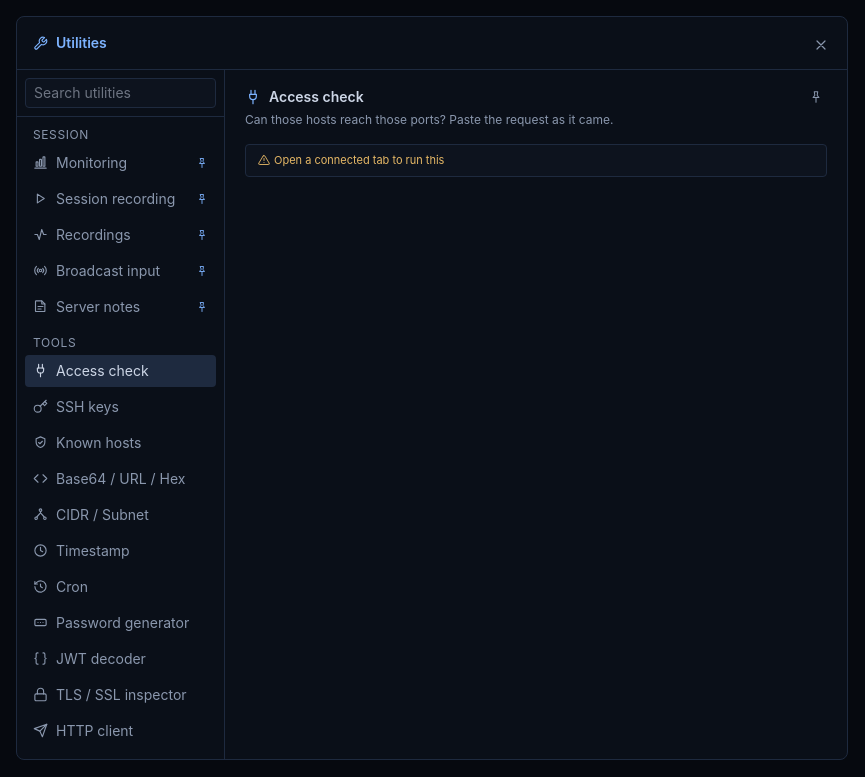
Test case: UtilitiesPanel — the session actions › the notes card names the server they would open for
Click the button with test id "utility-nav-session:notes".
click(120, 307)  # box top-left (25, 291), bottom-right (216, 323)
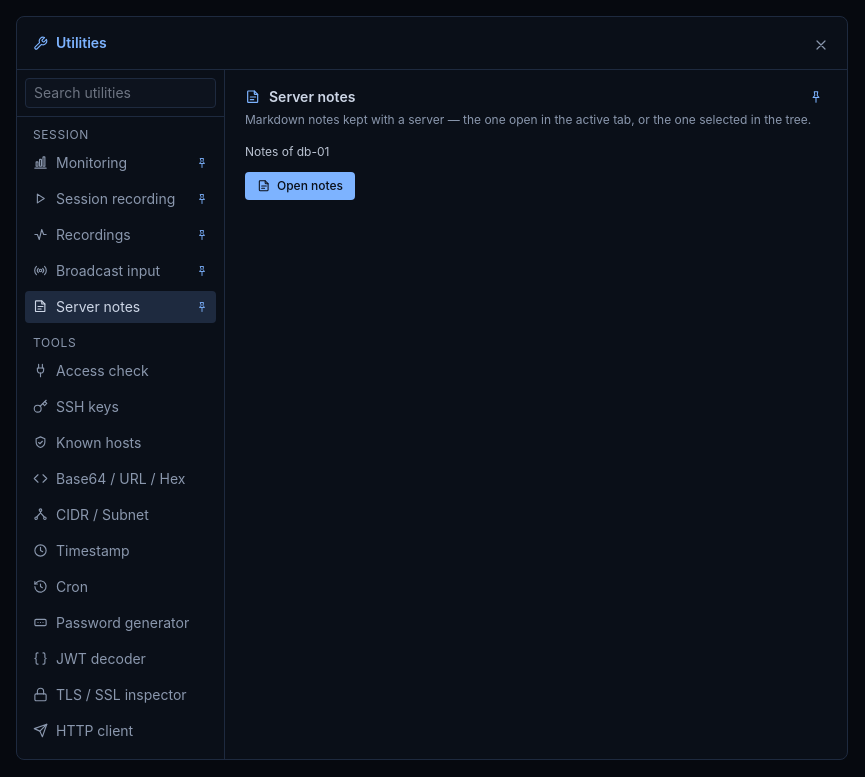
Expected: the text with test id "session-action-target" reads "Notes of db-01", top-left (245, 144), bottom-right (329, 159)
